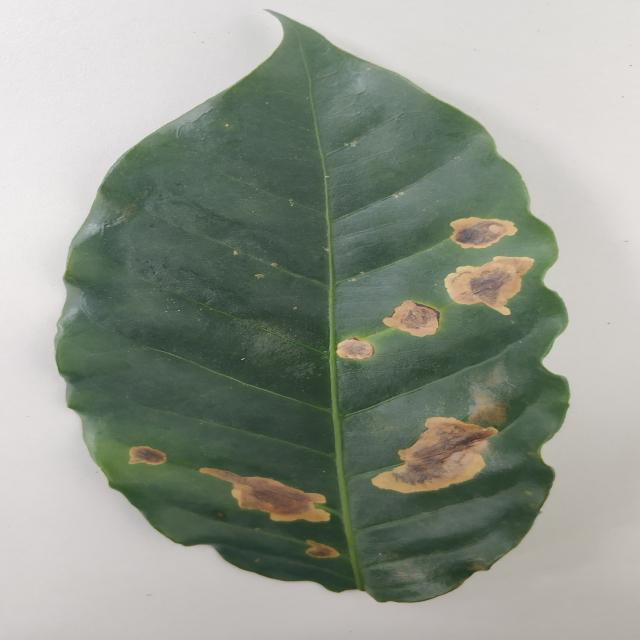Plaga-Minador: (54, 15, 570, 607)
